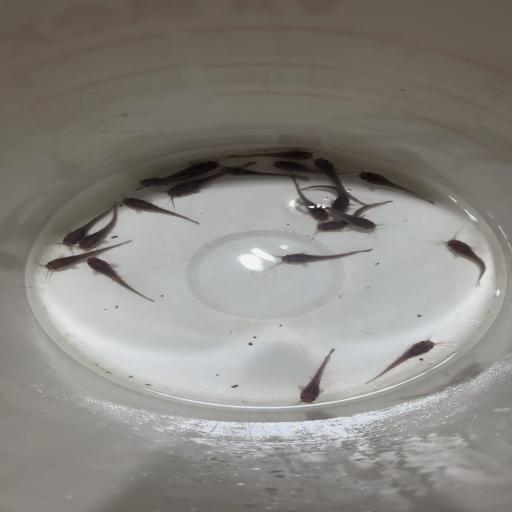lele: (362, 334, 442, 386), (164, 162, 259, 198), (85, 256, 155, 302), (40, 240, 134, 272), (356, 170, 436, 206), (290, 347, 339, 405), (316, 199, 393, 235), (312, 157, 368, 206), (439, 234, 489, 288), (295, 198, 377, 230), (257, 246, 374, 268), (118, 195, 201, 225), (57, 204, 115, 246), (77, 201, 119, 251), (289, 176, 330, 222), (270, 158, 362, 174), (219, 164, 311, 180), (305, 184, 348, 212), (222, 149, 316, 160), (167, 159, 221, 178), (132, 174, 192, 188)
